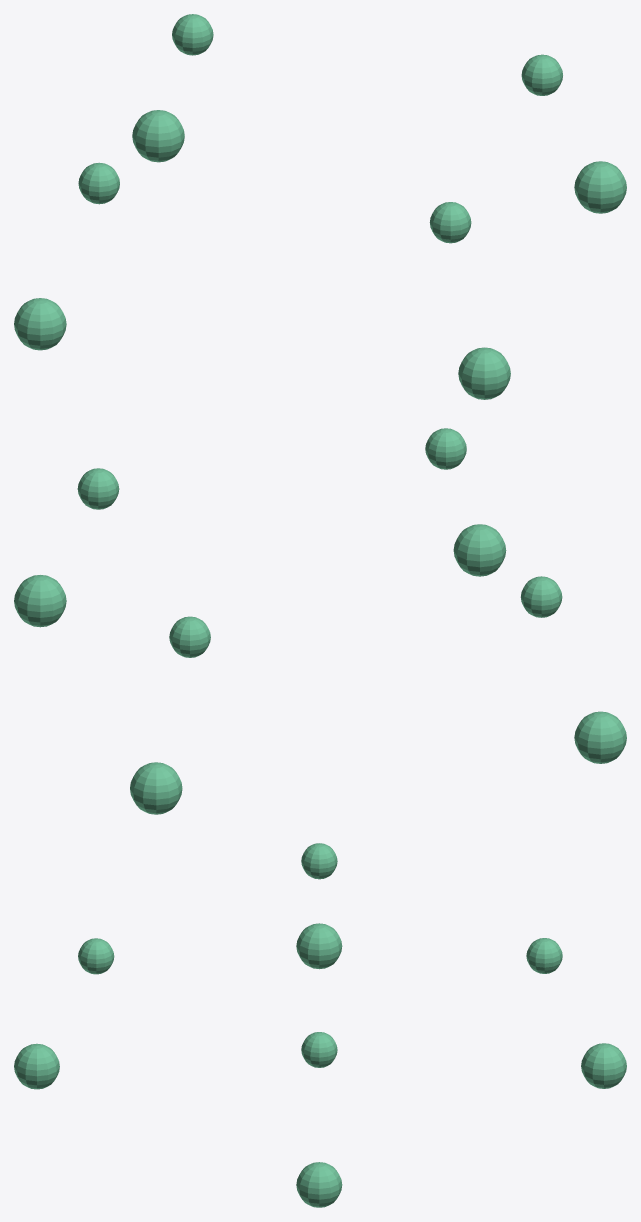
File: meditgreenorbs.dae
3 views of the same model, one above another, from view 1: azimuth 30°, elevation 25°; view 2: azimuth 150°, elevation 25°; view 3: azimuth 270°, elevation 25° (orthographic). The views are drawn at different scales.
Parts seen in each view (by area): view 1: Sphere_003, Sphere_001, Sphere, Sphere_002, Sphere_013, Sphere_012, Sphere_014, Sphere_015; view 2: Sphere_002, Sphere_001, Sphere_003, Sphere, Sphere_012, Sphere_013, Sphere_015, Sphere_014; view 3: Sphere_002, Sphere, Sphere_001, Sphere_003, Sphere_014, Sphere_012, Sphere_015, Sphere_013.
Boxes of the visible parts, x1,y1,x2,y2 form: Sphere_003: [458, 347, 510, 399]; Sphere_001: [14, 298, 66, 350]; Sphere: [574, 161, 626, 213]; Sphere_002: [132, 110, 184, 162]; Sphere_013: [172, 14, 213, 55]; Sphere_012: [429, 202, 471, 243]; Sphere_014: [78, 162, 119, 204]; Sphere_015: [521, 54, 562, 95]; Sphere_002: [130, 762, 182, 814]; Sphere_001: [574, 711, 626, 763]; Sphere_003: [453, 524, 506, 576]; Sphere: [14, 575, 66, 627]; Sphere_012: [425, 428, 466, 469]; Sphere_013: [169, 616, 210, 657]; Sphere_015: [77, 468, 119, 509]; Sphere_014: [520, 576, 562, 617]; Sphere_002: [581, 1043, 626, 1088]; Sphere: [296, 1162, 342, 1207]; Sphere_001: [296, 923, 342, 969]; Sphere_003: [14, 1043, 59, 1089]; Sphere_014: [301, 843, 337, 879]; Sphere_012: [78, 938, 114, 974]; Sphere_015: [301, 1032, 337, 1067]; Sphere_013: [526, 938, 562, 973].
Bounding box in the file's own units: 9.89 × 9.93 × 2.64.
